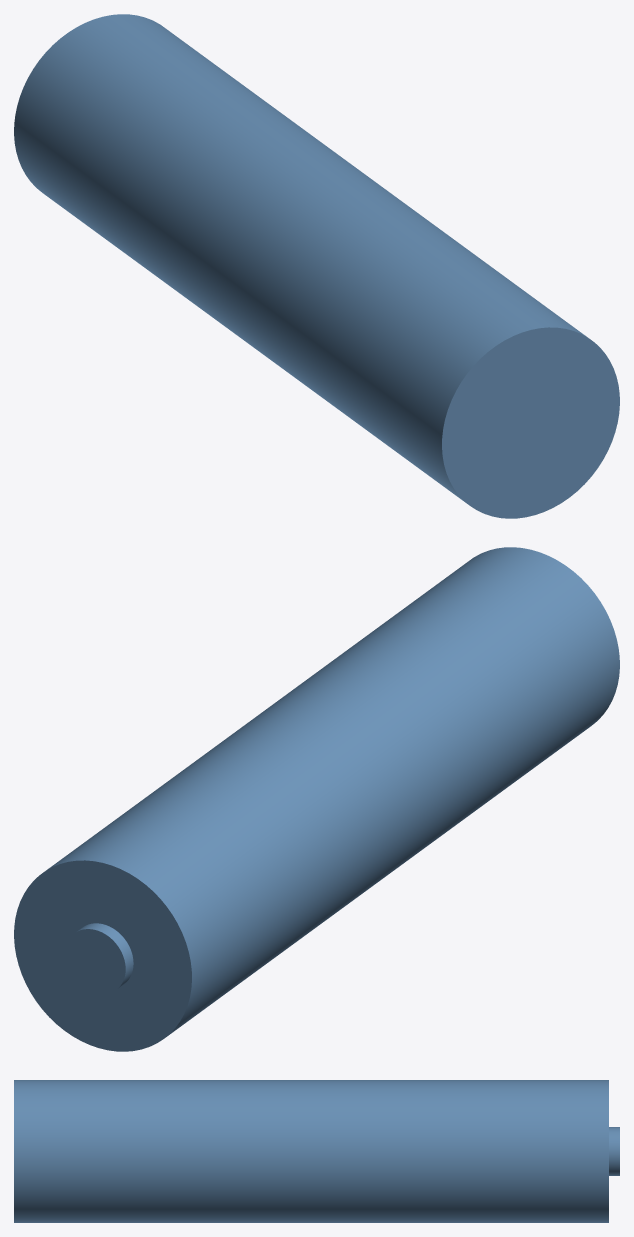
File: step_02.glb
3 renders of one model, top to bottom at view 1: azimuth 30°, elevation 25°; view 2: azimuth 150°, elevation 25°; view 3: azimuth 270°, elevation 25°, orthographic. The views are drawn at different scales.
Parts seen in each view (by area): view 1: part__AAA cell; view 2: part__AAA cell; view 3: part__AAA cell.
Boxes of the visible parts, x1=… form: part__AAA cell: x1=14, y1=14, x2=619, y2=518; part__AAA cell: x1=14, y1=547, x2=619, y2=1051; part__AAA cell: x1=14, y1=1080, x2=619, y2=1222.
Size of the model in its own units: 10.5 by 10.49 by 44.5.
